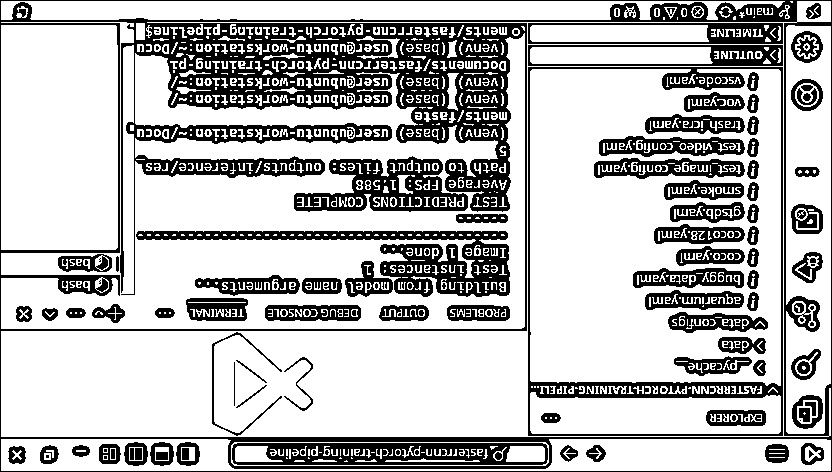Accounts: (791, 80, 826, 114)
Activity Bar: (788, 25, 831, 440)
Close: (10, 447, 29, 467)
Editor: (528, 24, 787, 441), (4, 336, 530, 442)
Explorer: (789, 398, 825, 433)
Manage: (793, 34, 825, 63)
Maximize: (41, 447, 60, 467)
Minimize: (71, 444, 94, 465)
Panel: (5, 25, 528, 334)
Run and Debug: (793, 252, 825, 288)
Search: (793, 349, 824, 385)
Search Bar: (227, 442, 556, 469)
Source Control: (788, 298, 824, 337)
Status Bar: (5, 5, 831, 22)
Top Bar: (3, 442, 831, 471)
